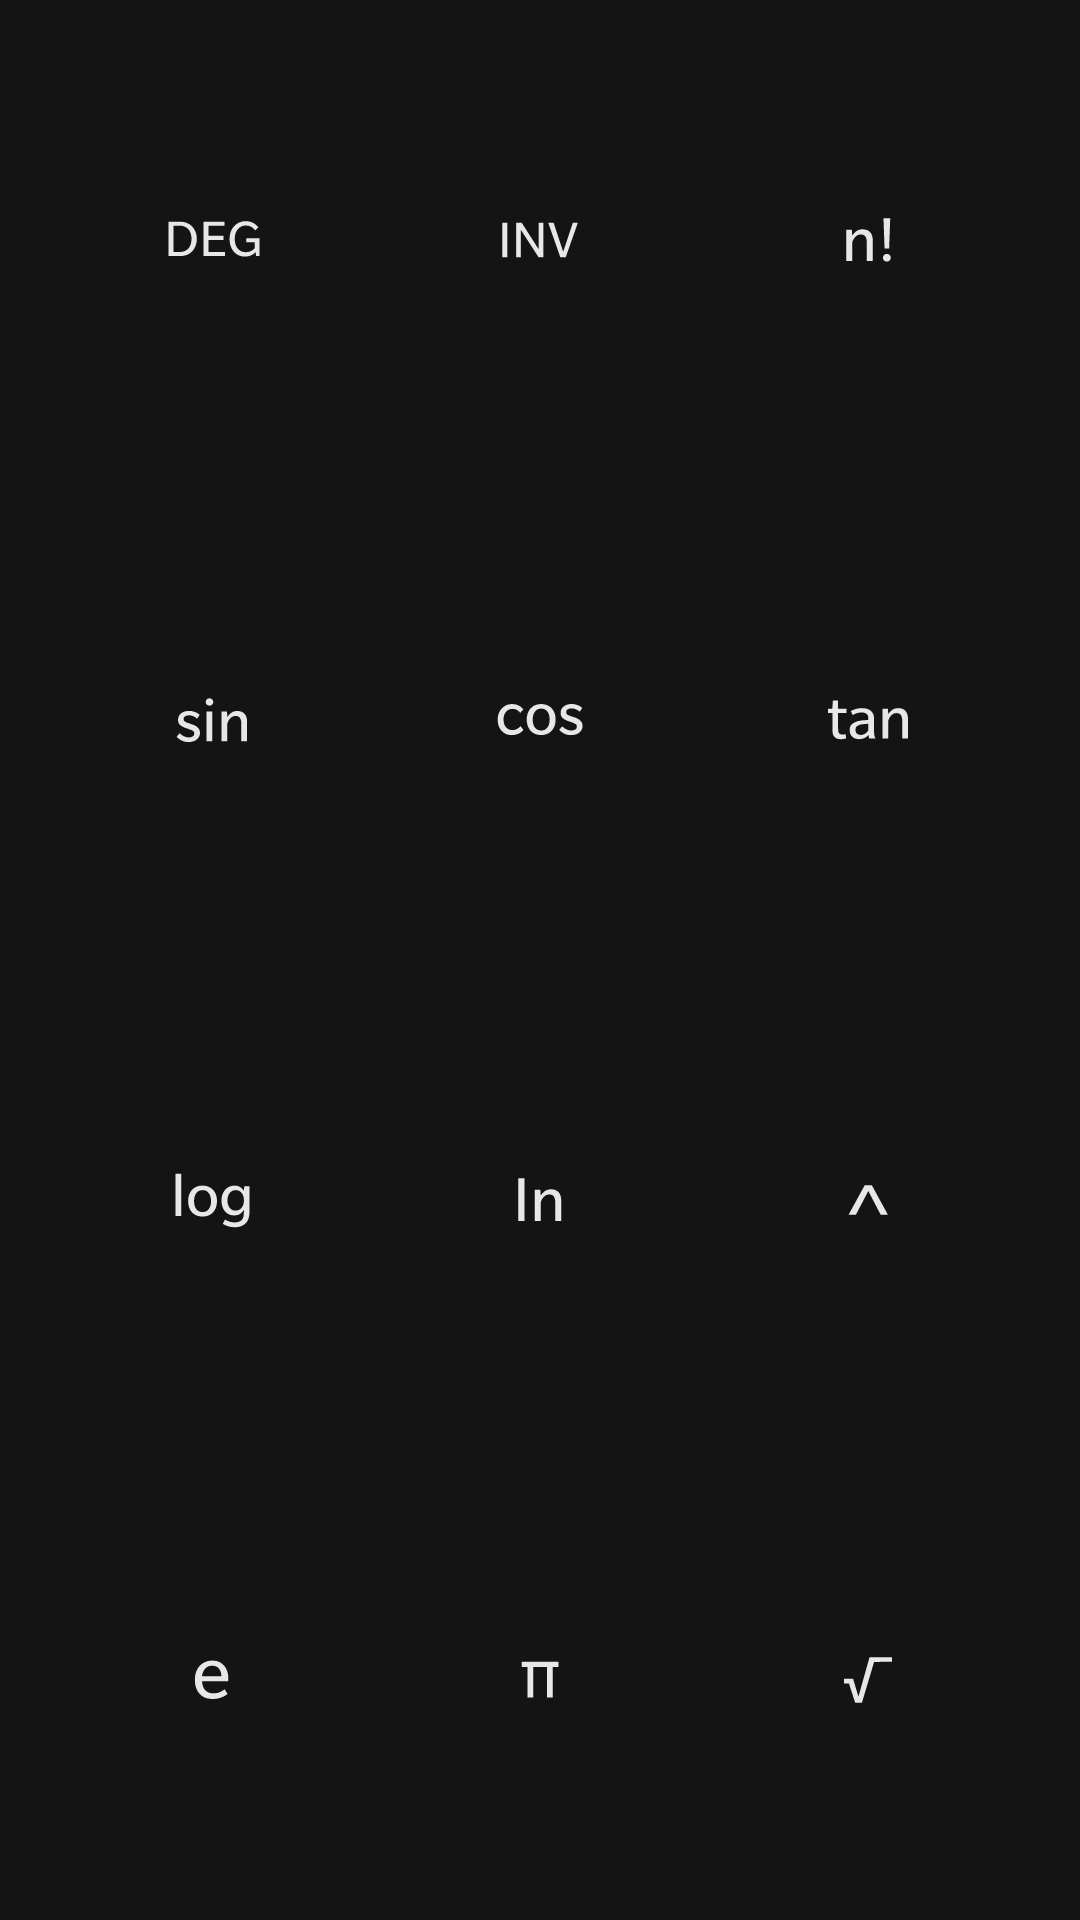

Icon click points for this 1080 × 1920 phone screenshot, format point (x, y):
pow: point (868, 1200)
